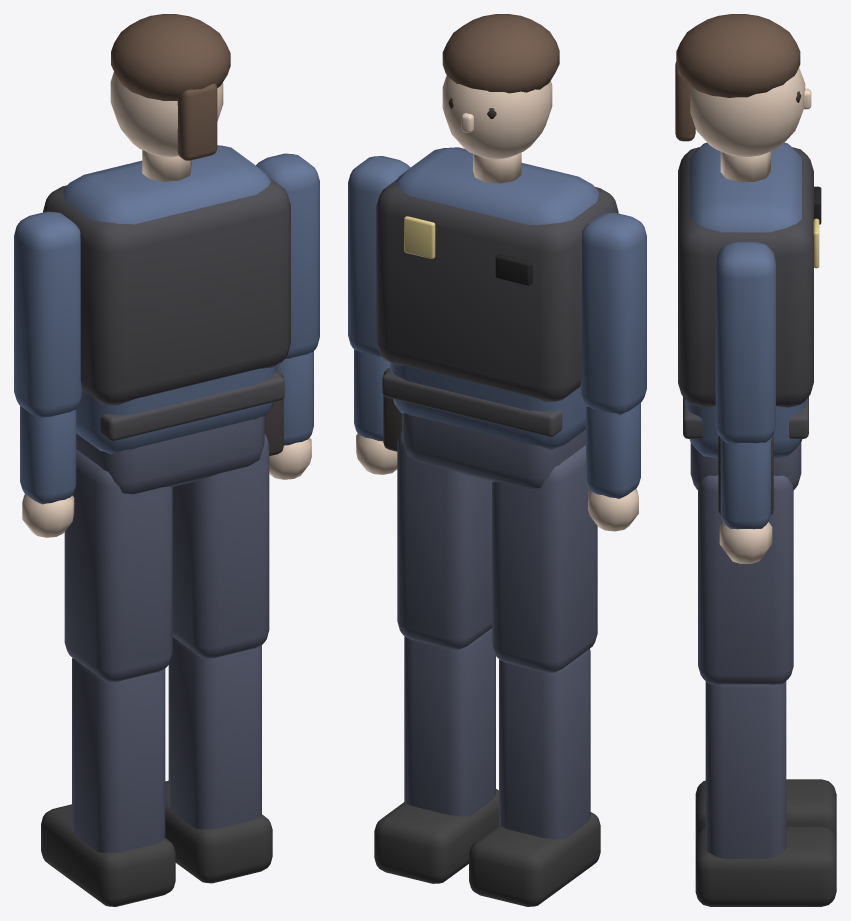
File: Jogador.fbx
The picture shows the model from 3 angles, left to right: view 1: azimuth 30°, elevation 25°; view 2: azimuth 150°, elevation 25°; view 3: azimuth 270°, elevation 25°; orthographic projection. The views are drawn at different scales.
Parts seen in each view (by area): view 1: Tronco, PernaE, PernaD, BracoE, Cabeca, BracoD, Quadril; view 2: Tronco, PernaE, PernaD, BracoE, Cabeca, BracoD, Quadril; view 3: PernaD, Tronco, BracoD, Cabeca, PernaE, Quadril.
Boxes of the visible parts, x1,y1,x2,y2 form: Tronco: (43,145,290,454); PernaE: (41,449,175,906); PernaD: (165,433,272,883); BracoE: (14,211,82,537); Cabeca: (110,14,230,181); BracoD: (256,153,319,479); Quadril: (76,370,283,494); Tronco: (376,147,618,449); PernaE: (469,445,600,906); PernaD: (374,430,498,883); BracoE: (580,212,646,531); Cabeca: (442,14,559,183); BracoD: (348,156,410,474); Quadril: (383,368,585,488); PernaD: (695,475,836,906); Tronco: (678,142,821,458); BracoD: (715,241,775,563); Cabeca: (675,14,811,181); PernaE: (695,779,836,840); Quadril: (690,435,801,514).
Bounding box in the file's own units: 0.66 × 1.86 × 0.32.
